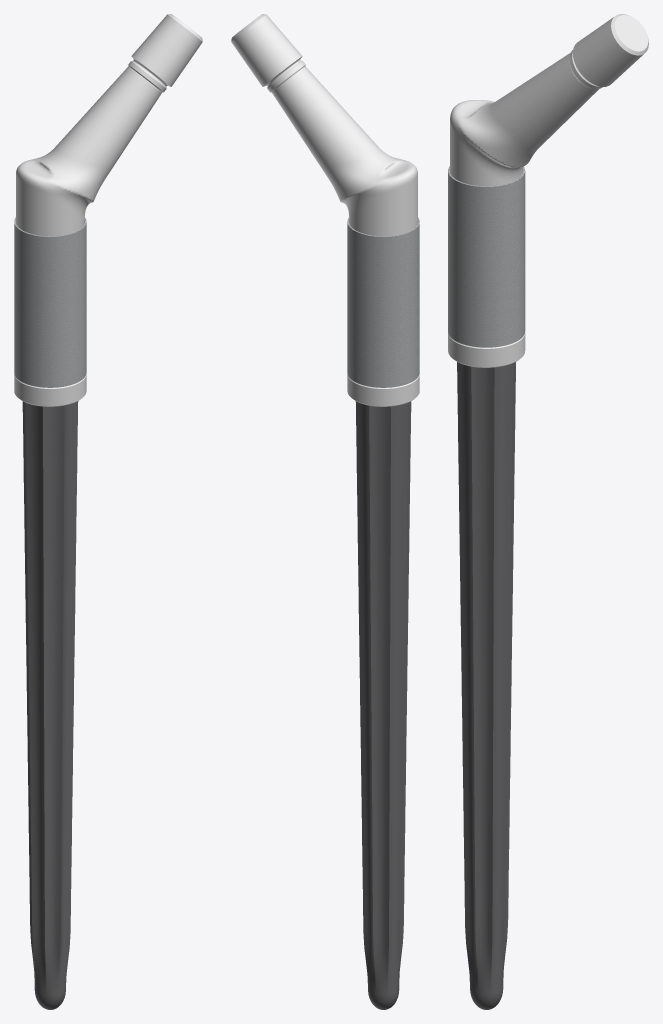
File: revistem-stem.glb
3 views of the same model, side by side, from view 1: azimuth 30°, elevation 25°; view 2: azimuth 150°, elevation 25°; view 3: azimuth 330°, elevation 25° (orthographic). The views are drawn at different scales.
Parts seen in each view (by area): view 1: revistem; view 2: revistem; view 3: revistem.
Part boxes in pixels (x1,y1,x2,y2): revistem: (14, 14, 202, 1009); revistem: (231, 14, 419, 1009); revistem: (448, 14, 648, 1009).
Bounding box in the file's own units: 0.0573 × 0.2934 × 0.0206.
3 materials, 2 textured.
